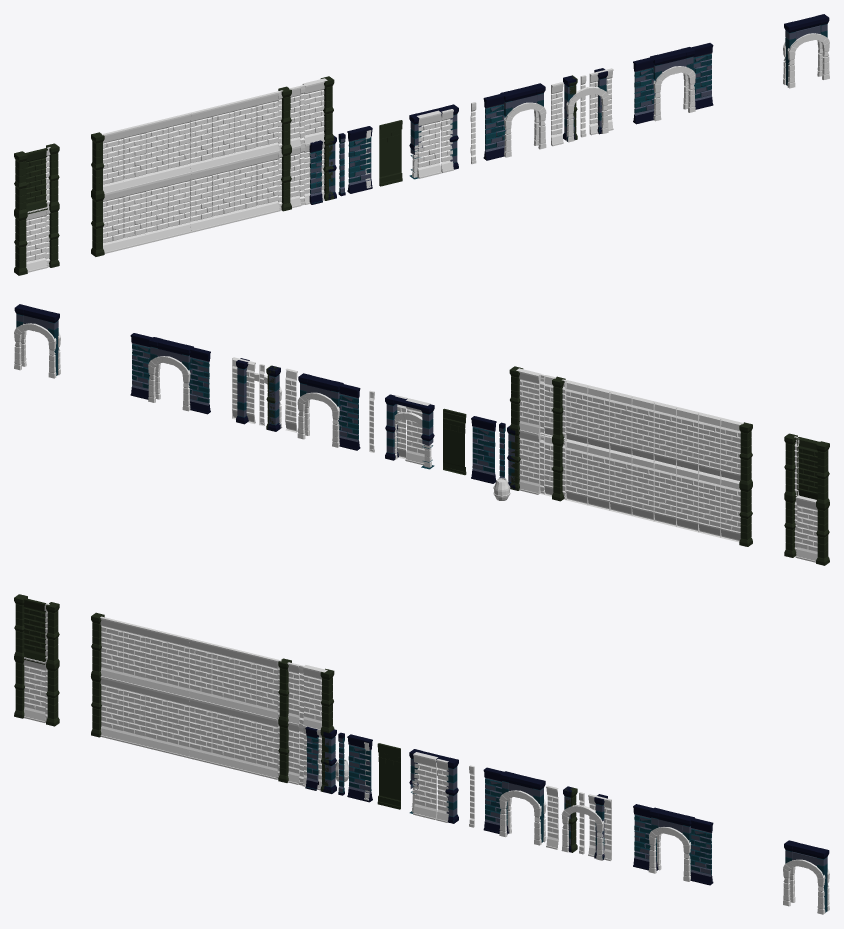
Rendered from Pintu Artefak Testing.fbx.
The picture shows the model from 3 angles, top to bottom: view 1: azimuth 30°, elevation 25°; view 2: azimuth 150°, elevation 25°; view 3: azimuth 330°, elevation 25°; orthographic projection.
Visible parts, largest first — view 1: Cube.009, Plane.002, Tembok 100 Cm, Plane.001, Plane.026, Plane.024, Plane.029, Plane.023, Plane.025, Plane.027, Plane.014, Plane.015 (+36 smaller); view 2: Cube.009, Tembok 100 Cm, Plane.014, Plane.018, Plane.012, Plane.013, Plane.025, Plane.029, Plane.015, Plane.023, Plane.001, Plane.024 (+37 smaller); view 3: Cube.009, Plane.002, Tembok 100 Cm, Plane.028, Plane.024, Plane.026, Plane.027, Plane.029, Plane.025, Plane.015, Plane.030, Plane.016 (+36 smaller).
Boxes of the visible parts, bbox=[...] form: Cube.009: bbox=[14, 148, 47, 217]; Plane.002: bbox=[417, 110, 441, 178]; Tembok 100 Cm: bbox=[347, 126, 372, 193]; Plane.001: bbox=[379, 120, 402, 186]; Plane.026: bbox=[190, 107, 213, 173]; Plane.024: bbox=[234, 96, 258, 163]; Plane.029: bbox=[123, 123, 147, 190]; Plane.023: bbox=[256, 91, 280, 157]; Plane.025: bbox=[212, 102, 235, 168]; Plane.027: bbox=[167, 112, 191, 179]; Plane.014: bbox=[212, 161, 235, 227]; Plane.015: bbox=[190, 166, 213, 232]; Cube.009: bbox=[797, 437, 829, 507]; Tembok 100 Cm: bbox=[471, 416, 496, 483]; Plane.014: bbox=[609, 449, 633, 515]; Plane.018: bbox=[698, 471, 721, 537]; Plane.012: bbox=[565, 439, 588, 505]; Plane.013: bbox=[587, 444, 610, 510]; Plane.025: bbox=[609, 390, 632, 457]; Plane.029: bbox=[698, 412, 721, 479]; Plane.015: bbox=[631, 455, 653, 521]; Plane.023: bbox=[565, 380, 588, 446]; Plane.001: bbox=[443, 408, 466, 475]; Plane.024: bbox=[587, 385, 610, 451]; Cube.009: bbox=[14, 594, 46, 664]; Plane.002: bbox=[413, 752, 437, 819]; Tembok 100 Cm: bbox=[347, 734, 372, 802]; Plane.028: bbox=[144, 627, 167, 693]; Plane.024: bbox=[233, 649, 256, 715]; Plane.026: bbox=[188, 638, 212, 704]; Plane.027: bbox=[166, 633, 189, 699]; Plane.029: bbox=[122, 622, 145, 688]; Plane.025: bbox=[211, 643, 234, 710]; Plane.015: bbox=[188, 697, 212, 763]; Plane.030: bbox=[100, 616, 123, 683]; Plane.016: bbox=[166, 692, 189, 758].
Size of the model in its own units: 7294 by 1026 by 345.
